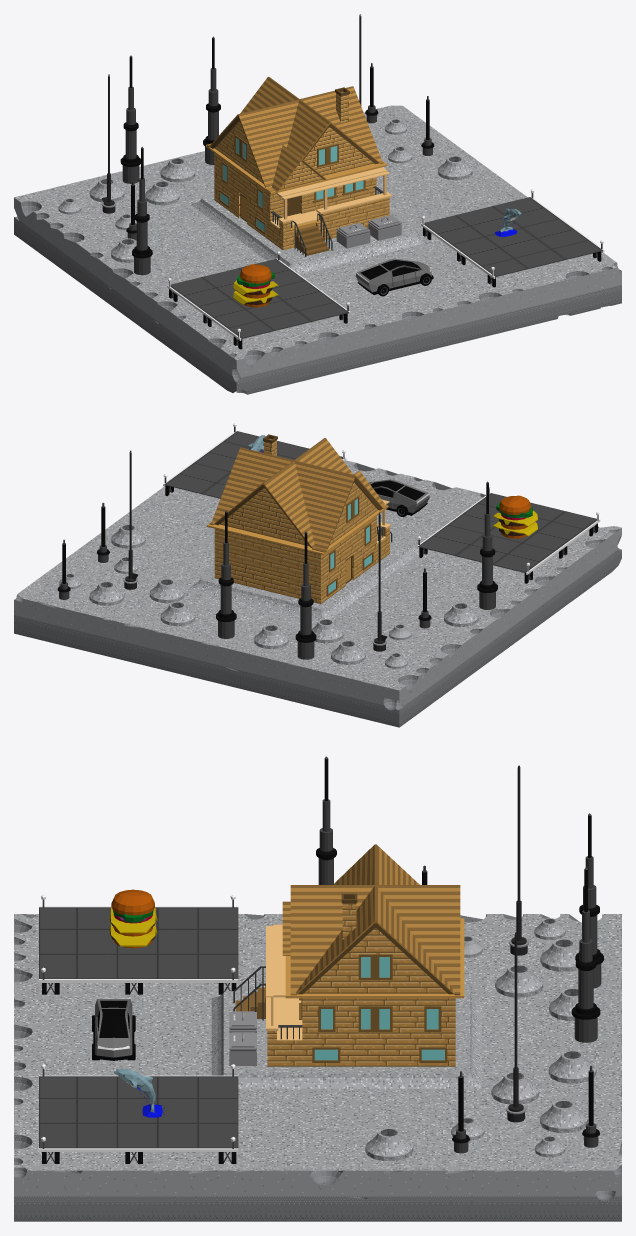
3 views of the same model, one above another, from view 1: azimuth 30°, elevation 25°; view 2: azimuth 150°, elevation 25°; view 3: azimuth 270°, elevation 25° (orthographic). The views are drawn at different scales.
Parts seen in each view (by area): view 1: Cube.027, Cube.508, Cube.026, Cube.025, Cube.028, VEHICLES_CYBERTRUCK, OBJRANDOM_HAMBURGER, Cylinder.020, Cylinder.021, Cylinder.017, Cube.029, Cube.030 (+4 smaller); view 2: Cube.027, Cube.508, Cube.025, Cube.028, Cube.026, OBJRANDOM_HAMBURGER, VEHICLES_CYBERTRUCK, Cylinder.020, Cylinder.021, Cylinder.017, Cylinder.031, Cylinder.028 (+8 smaller); view 3: Cube.027, Cube.508, Cube.026, Cube.025, Cube.028, VEHICLES_CYBERTRUCK, OBJRANDOM_HAMBURGER, Cylinder.017, Cylinder.020, Cylinder.021, Cylinder.033, Cylinder.031 (+11 smaller).
Boxes of the visible parts, box(x1,y1,x2,y2) form: Cube.027: box(14, 105, 621, 394); Cube.508: box(205, 76, 392, 256); Cube.026: box(421, 189, 604, 287); Cube.025: box(167, 251, 350, 349); Cube.028: box(191, 195, 424, 274); VEHICLES_CYBERTRUCK: box(355, 258, 433, 296); OBJRANDOM_HAMBURGER: box(233, 264, 278, 307); Cylinder.020: box(120, 55, 140, 183); Cylinder.021: box(132, 146, 152, 275); Cylinder.017: box(203, 36, 220, 164); Cube.029: box(336, 222, 370, 248); Cube.030: box(368, 215, 401, 240); Cube.027: box(14, 460, 621, 727); Cube.508: box(206, 434, 392, 603); Cube.025: box(417, 485, 600, 583); Cube.028: box(190, 538, 419, 620); Cube.026: box(163, 423, 346, 498); OBJRANDOM_HAMBURGER: box(492, 495, 537, 538); VEHICLES_CYBERTRUCK: box(369, 479, 429, 517); Cylinder.020: box(295, 531, 316, 659); Cylinder.021: box(477, 481, 497, 609); Cylinder.017: box(216, 510, 236, 638); Cylinder.031: box(89, 581, 124, 605); Cylinder.028: box(331, 640, 365, 664); Cube.027: box(14, 914, 621, 1221); Cube.508: box(233, 844, 464, 1066); Cube.026: box(39, 1064, 238, 1163); Cube.025: box(39, 895, 238, 994); Cube.028: box(211, 991, 481, 1088); VEHICLES_CYBERTRUCK: box(92, 998, 135, 1060); OBJRANDOM_HAMBURGER: box(109, 889, 157, 948); Cylinder.017: box(571, 867, 600, 1042); Cylinder.020: box(575, 813, 603, 988); Cylinder.021: box(316, 756, 336, 884); Cylinder.033: box(365, 1128, 413, 1160); Cylinder.031: box(540, 1100, 587, 1132).
Bounding box in the file's own units: 4000 × 1815 × 4000.
Materials: 35 (5 with a texture image).
